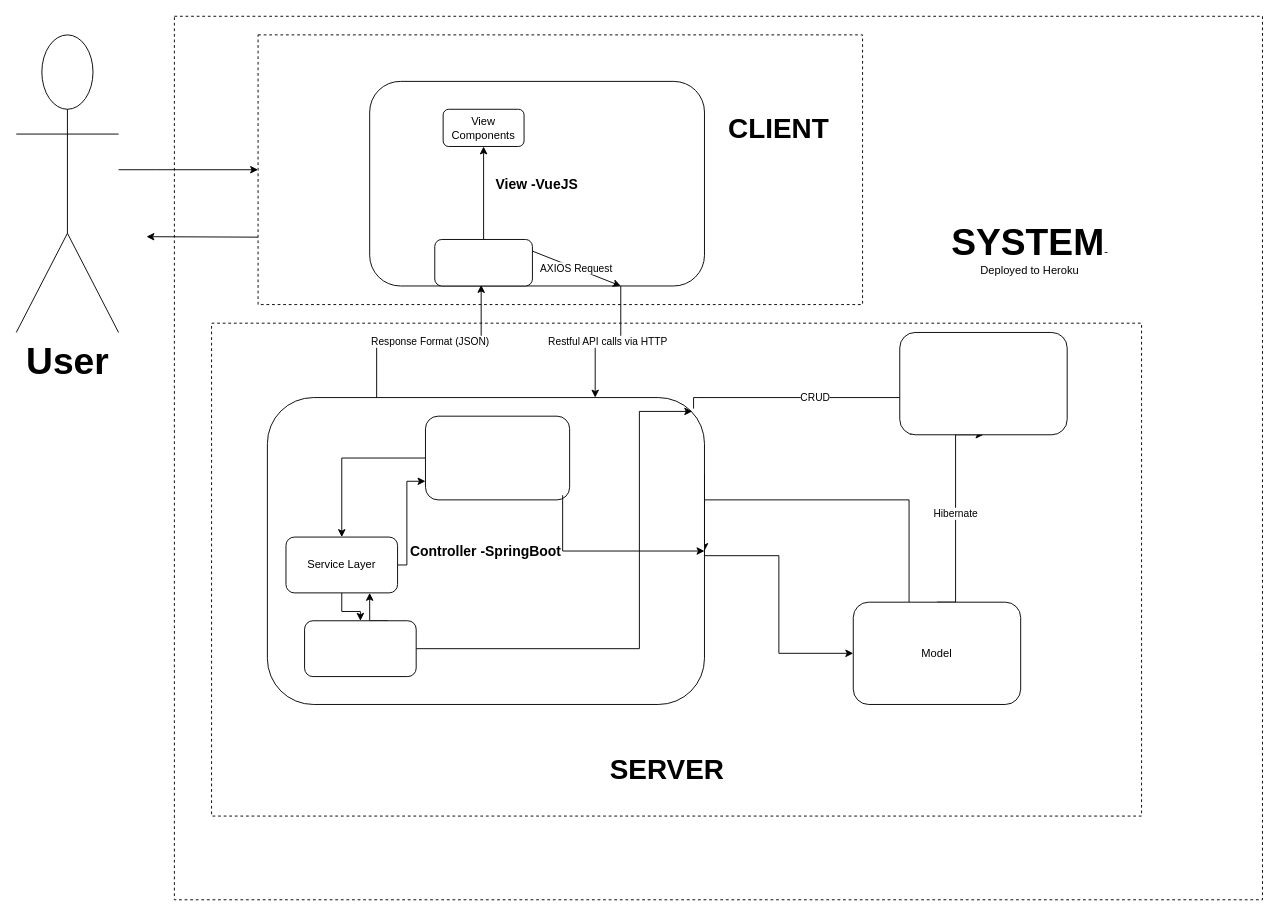
Some shapes in this 1279 by 916 pixel diagram are drawn without their labels. The box of each missing label's shape, as (x1, y1, x2, y2) in pixels:
Database Postgress SQL: (899, 332, 1067, 435)
Front End Data: (434, 239, 532, 286)
Persistence Layer (DAO): (304, 620, 416, 677)
Restful API: (425, 415, 570, 500)
